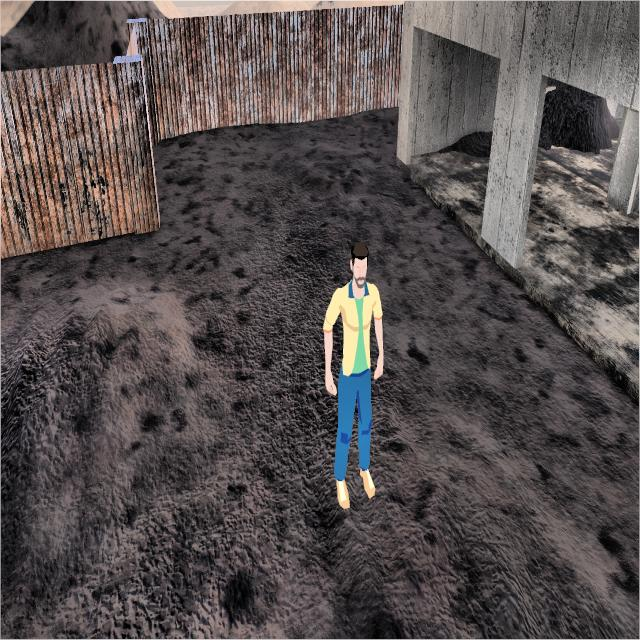good: (313, 240, 398, 520)
